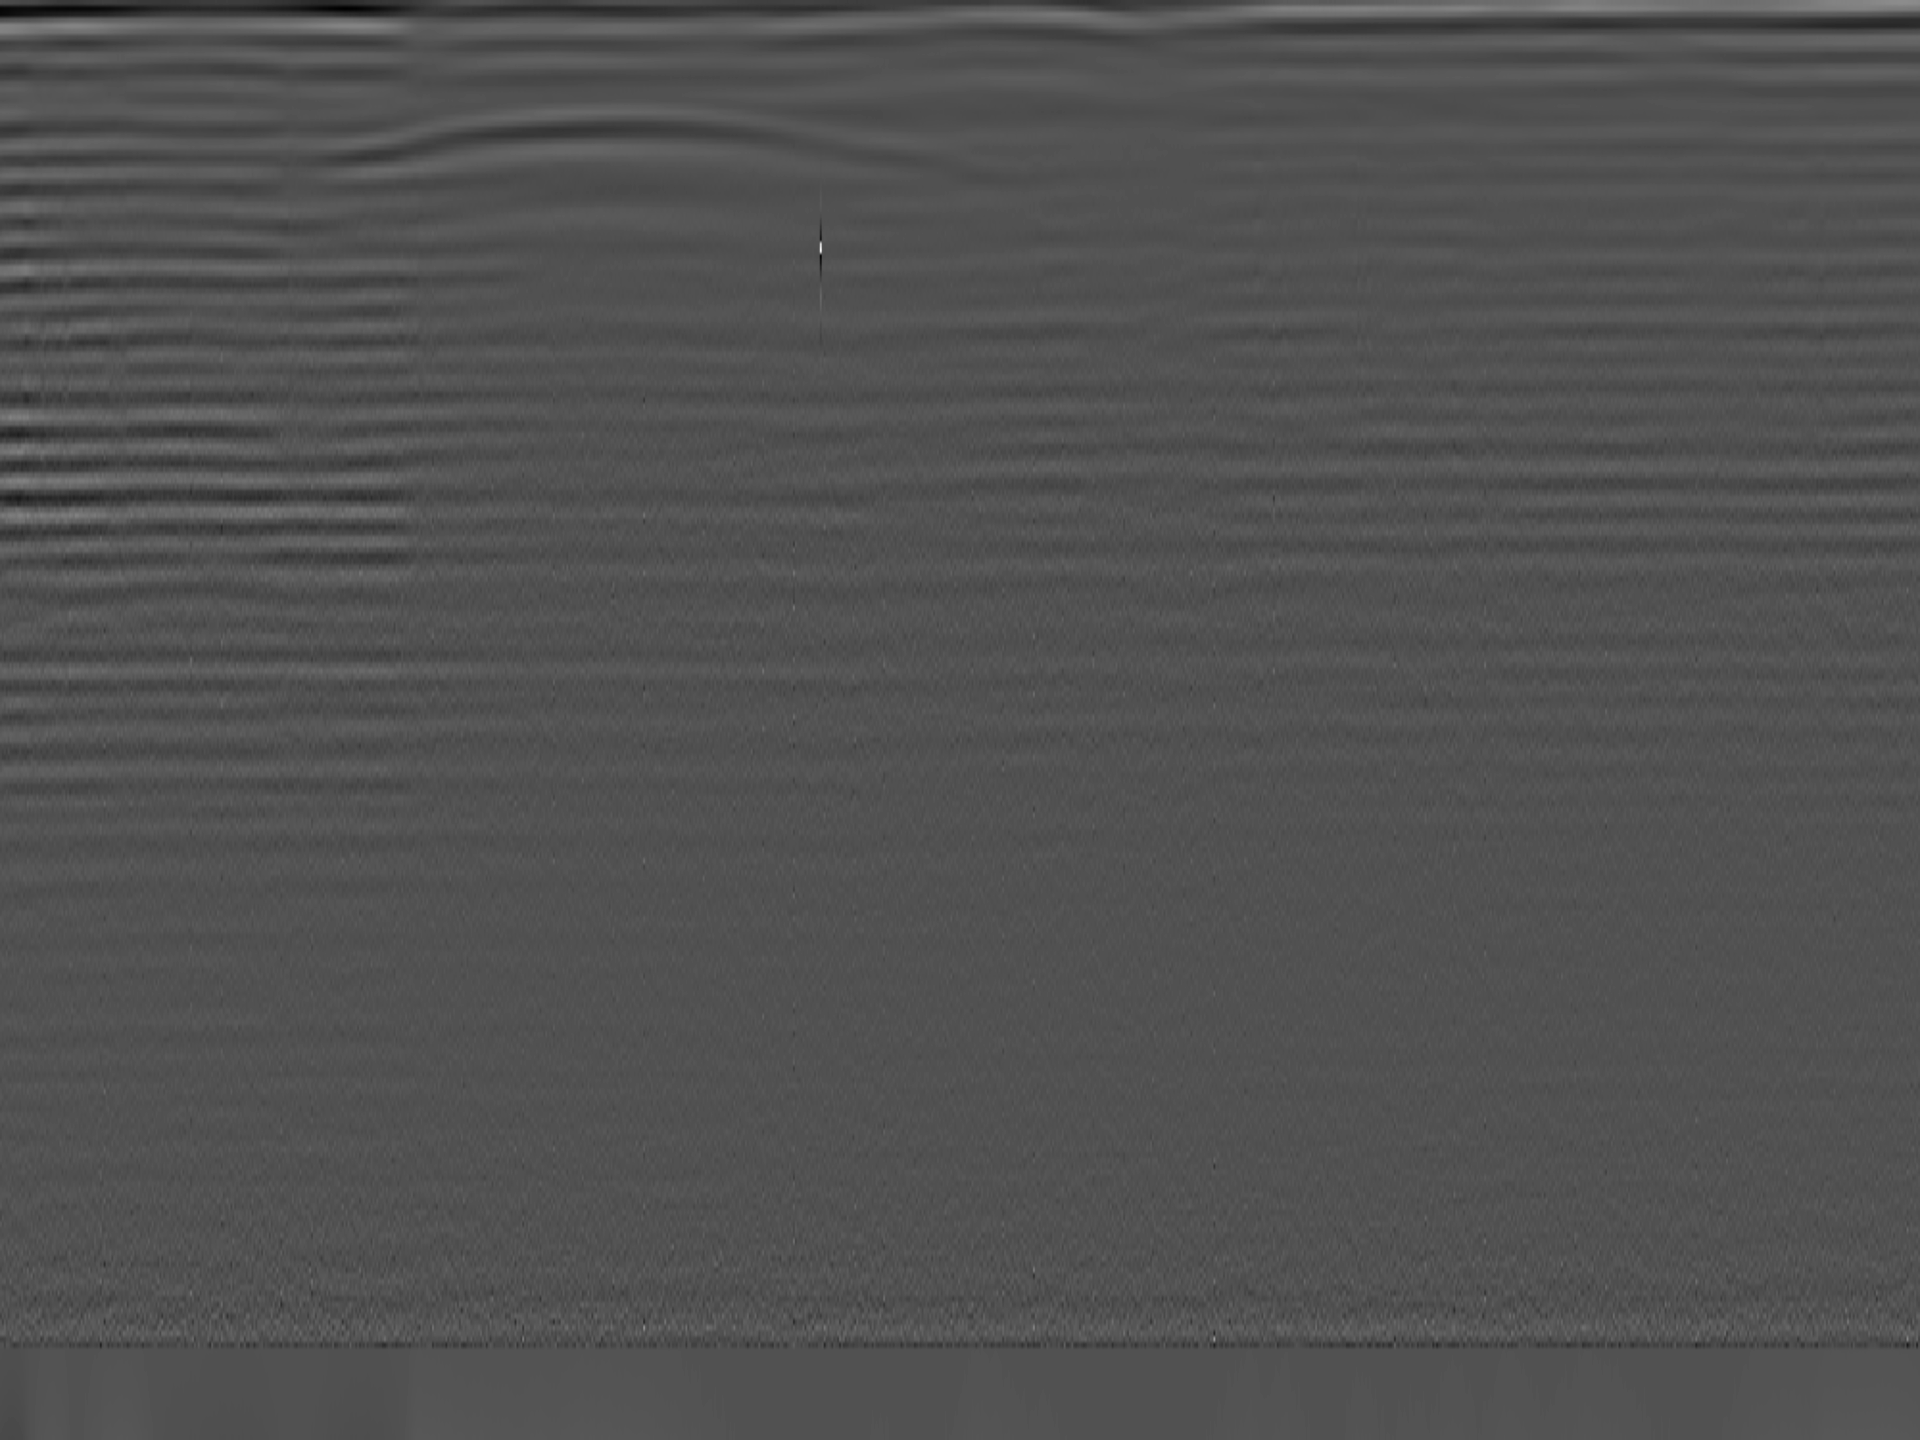Tunnel: (324, 106, 975, 169)
